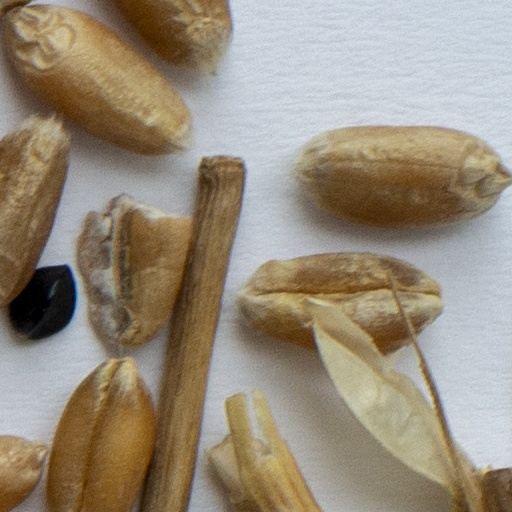Fallopia-Convolvulus-poly: (10, 266, 266, 338)
Wheat-grain-damaged-poly: (69, 189, 189, 361)
